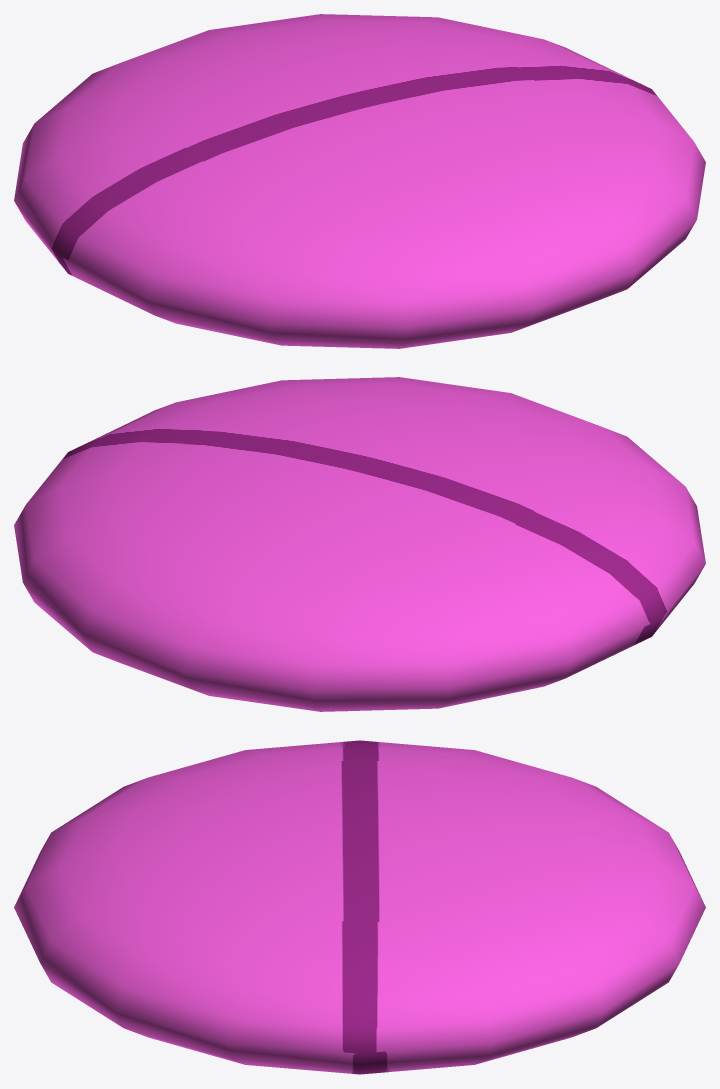
Rendered from Small_pill.fbx.
3 views of the same model, one above another, from view 1: azimuth 30°, elevation 25°; view 2: azimuth 150°, elevation 25°; view 3: azimuth 270°, elevation 25° (orthographic).
Visible parts, largest first — view 1: Sphere; view 2: Sphere; view 3: Sphere.
Part boxes in pixels (box(x1,y1,x2,y2)): Sphere: box(14, 14, 705, 348); Sphere: box(14, 377, 705, 711); Sphere: box(14, 740, 705, 1074).
Size of the model in its own units: 200 by 51.57 by 200.
